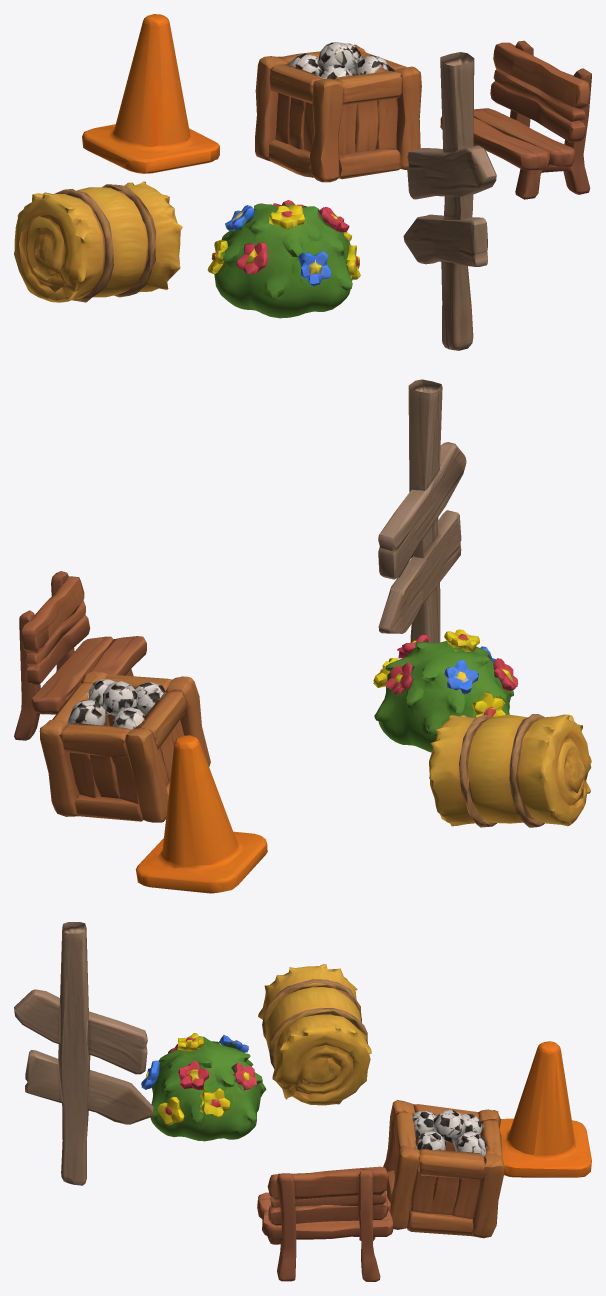
File: campo_objetos.glb
The picture shows the model from 3 angles, top to bottom: view 1: azimuth 30°, elevation 25°; view 2: azimuth 150°, elevation 25°; view 3: azimuth 270°, elevation 25°; orthographic projection. The views are drawn at different scales.
Parts seen in each view (by area): view 1: tripo_node_41b3f638-fdc3-4287-ab56-ba54e51273b8; view 2: tripo_node_41b3f638-fdc3-4287-ab56-ba54e51273b8; view 3: tripo_node_41b3f638-fdc3-4287-ab56-ba54e51273b8.
Part boxes in pixels (x1=…): tripo_node_41b3f638-fdc3-4287-ab56-ba54e51273b8: x1=14, y1=14, x2=591, y2=350; tripo_node_41b3f638-fdc3-4287-ab56-ba54e51273b8: x1=14, y1=379, x2=591, y2=893; tripo_node_41b3f638-fdc3-4287-ab56-ba54e51273b8: x1=14, y1=922, x2=591, y2=1281.
Size of the model in its own units: 0.9495 by 0.4878 by 0.9977.
Materials: 1 (1 with a texture image).
